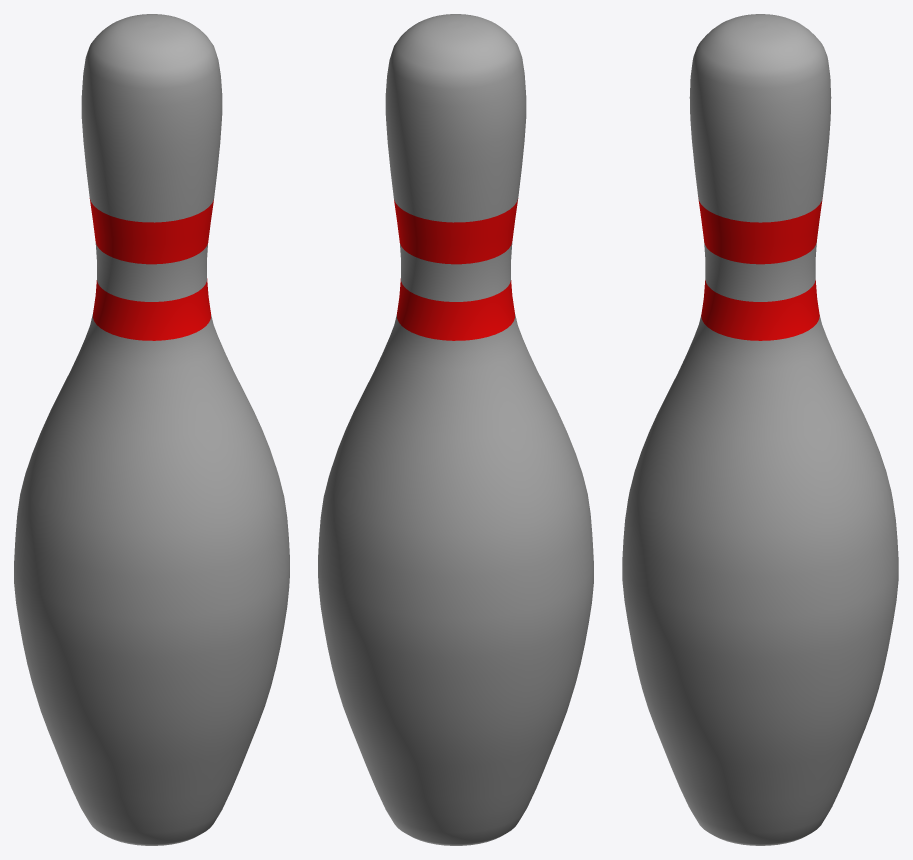
File: Bowiling_Pin.fbx
3 renders of one model, left to right at view 1: azimuth 30°, elevation 25°; view 2: azimuth 150°, elevation 25°; view 3: azimuth 270°, elevation 25°, orthographic.
Visible parts, largest first — view 1: pCylinder1; view 2: pCylinder1; view 3: pCylinder1.
Boxes of the visible parts, x1,y1,x2,y2 form: pCylinder1: [14, 14, 289, 845]; pCylinder1: [318, 14, 593, 845]; pCylinder1: [622, 14, 898, 845].
Bounding box in the file's own units: 5.71 × 18.17 × 5.71.
